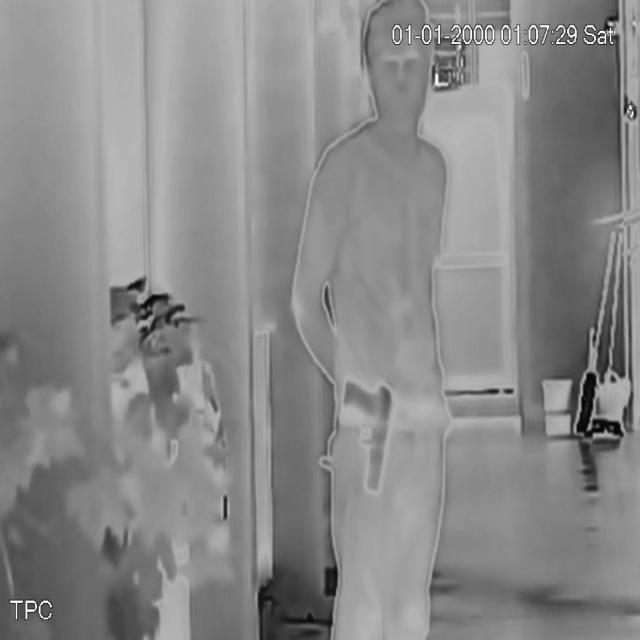Weapon: (336, 370, 412, 500)
